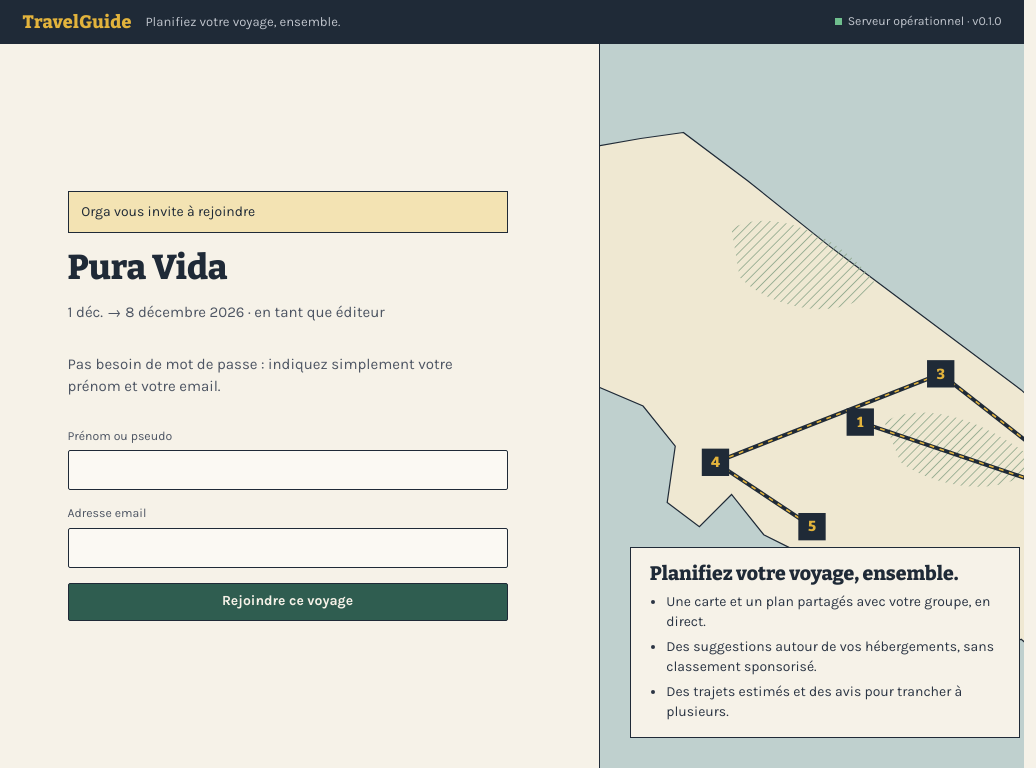
invitation › propose un lien magique si le compte existe déjà
Type "Ana" into the field labelled "Prénom ou pseudo".
click(288, 470); type("Ana")  # box 68,450 -> 508,490
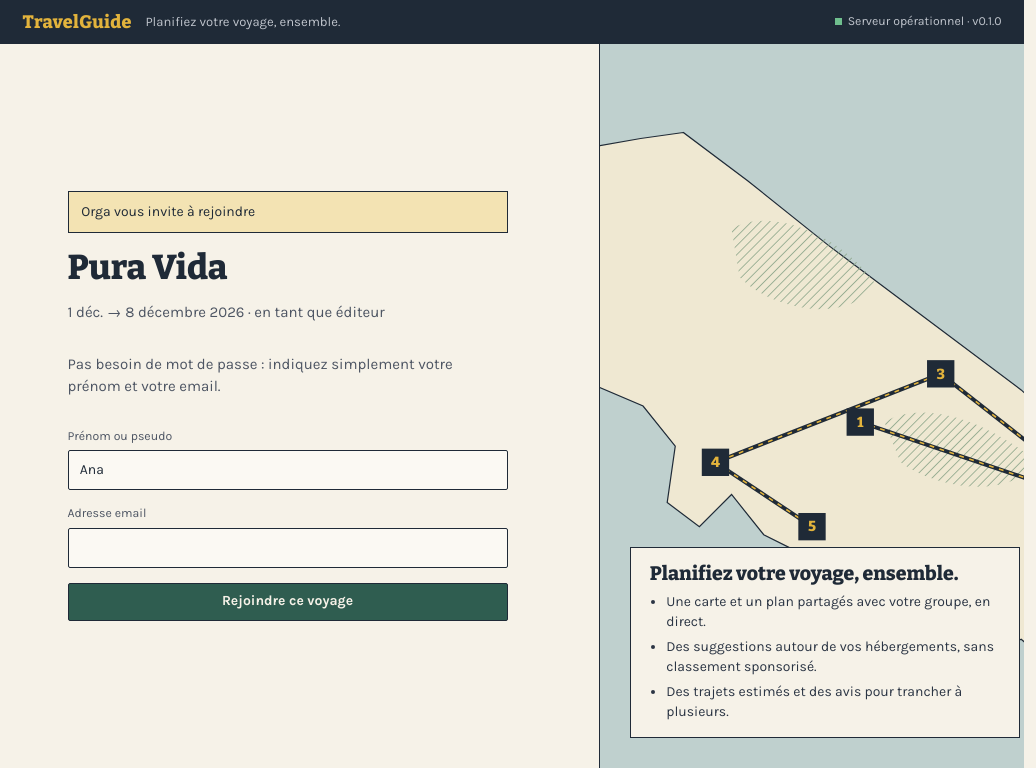
Type "ana@example.com" into the field labelled "Adresse email".
click(288, 548); type("ana@example.com")  # box 68,528 -> 508,568
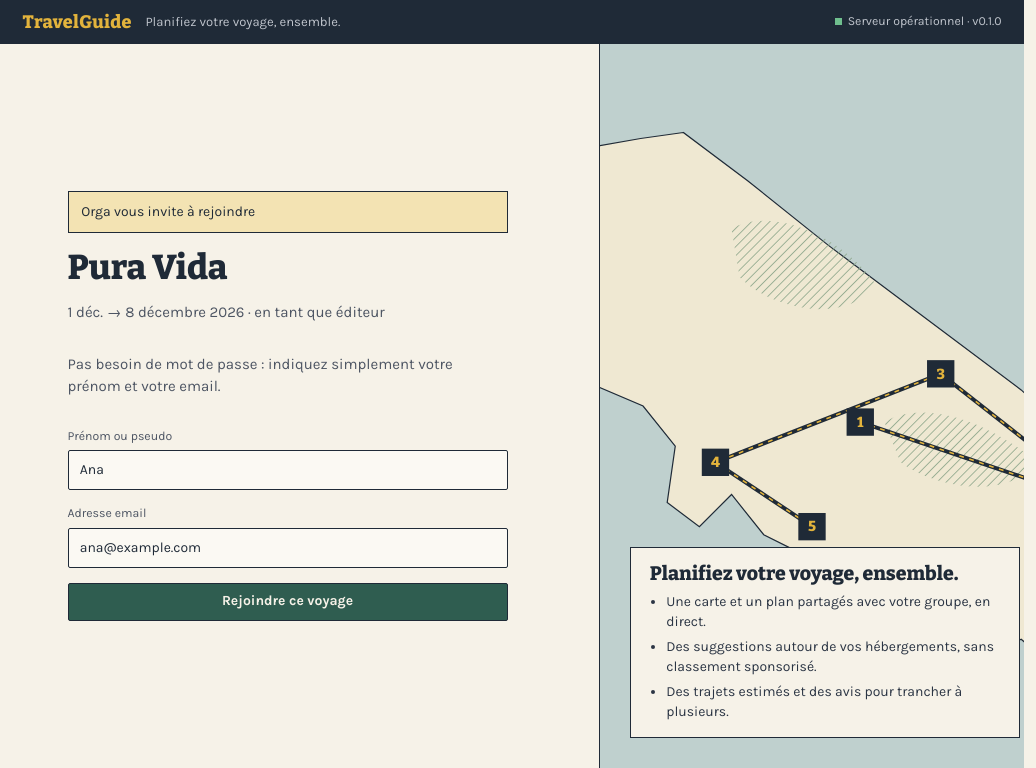
Click the button "Rejoindre ce voyage".
click(288, 602)  # box 68,583 -> 508,621
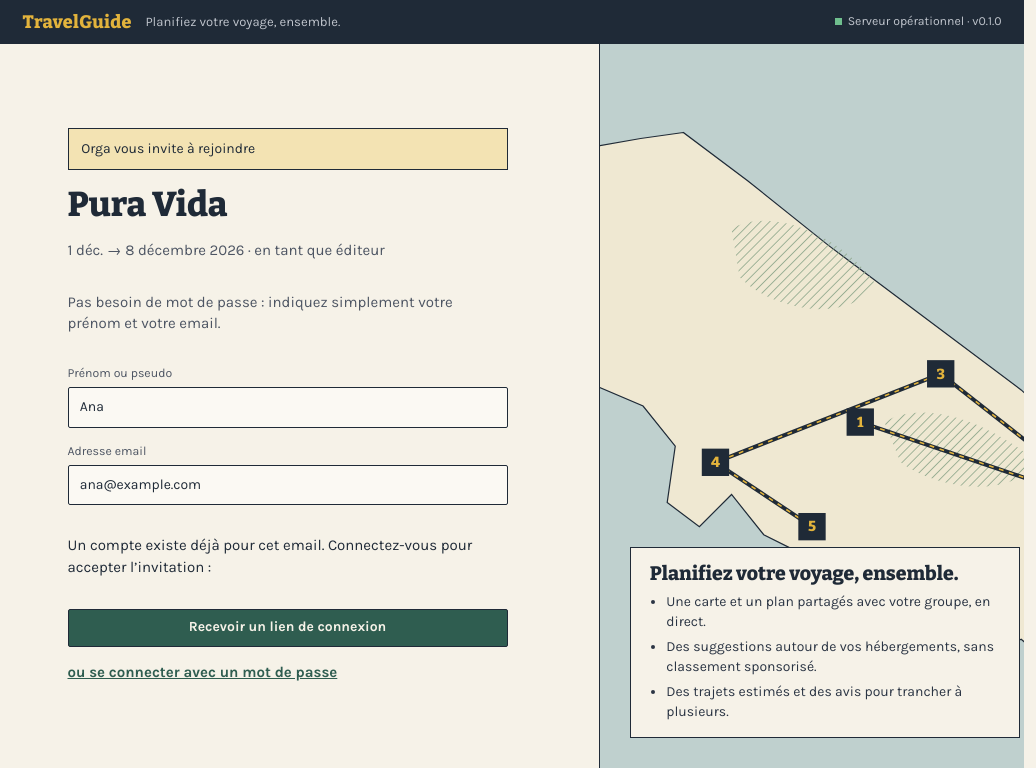
Click the button "Recevoir un lien de connexion".
click(288, 628)  # box 68,609 -> 508,647
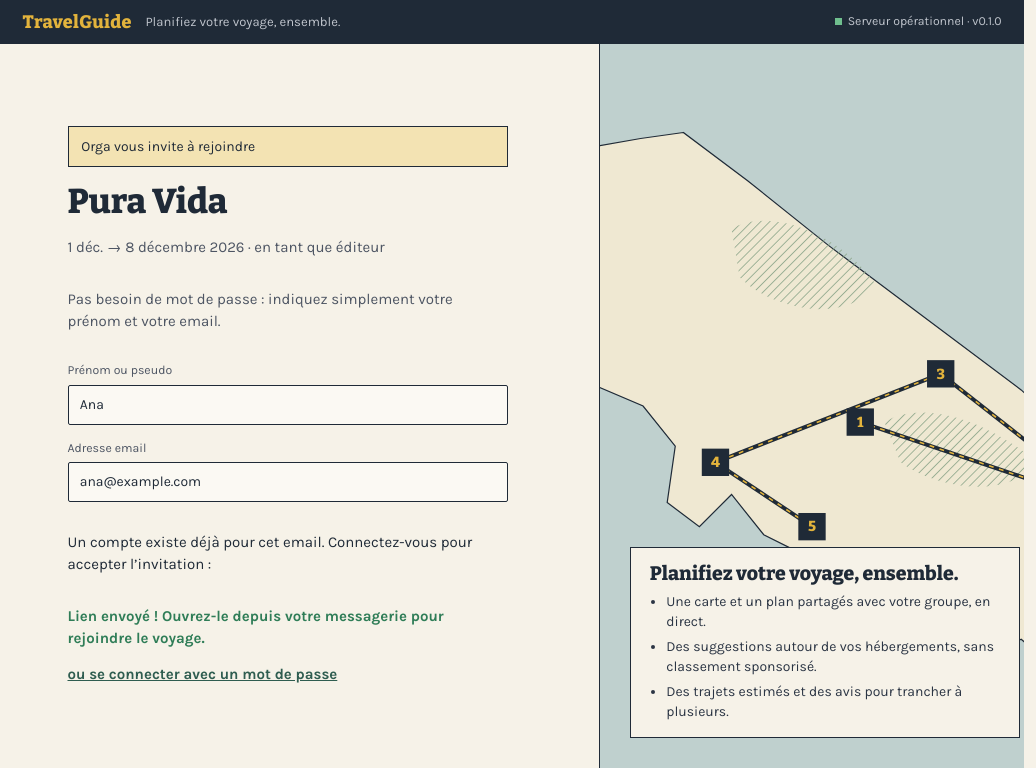
Check: the message "Lien envoyé ! Ouvrez-le depuis votre messagerie pour rejoindre le voyage." is shown, box 68,606 -> 508,650
